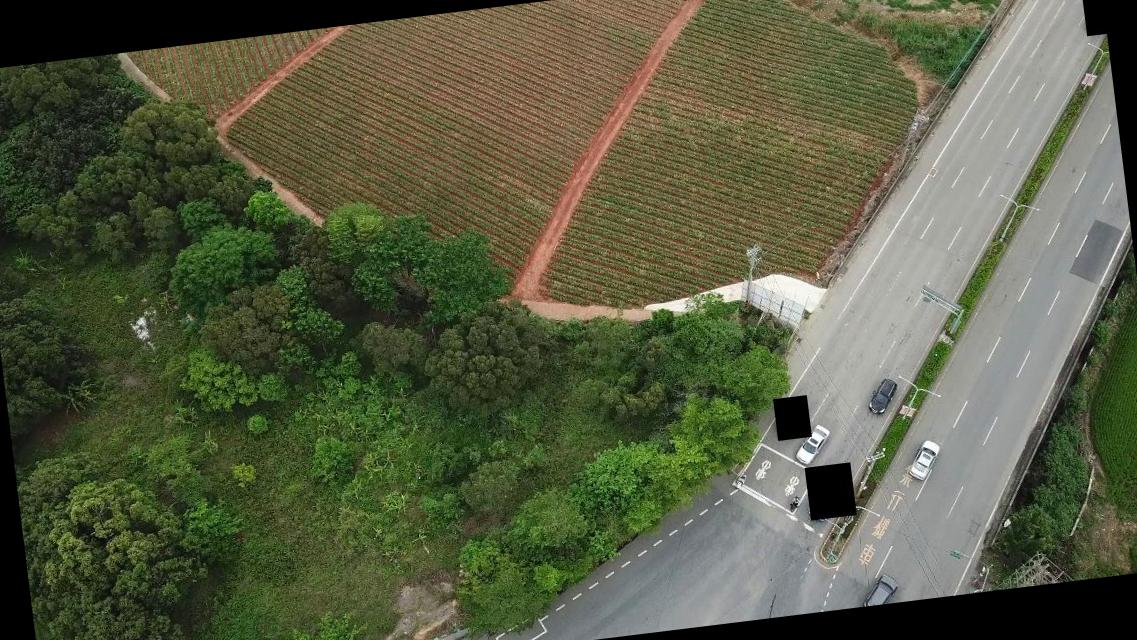vehicle: (790, 422, 832, 468), (905, 437, 942, 480), (856, 573, 900, 607), (864, 375, 898, 416)
